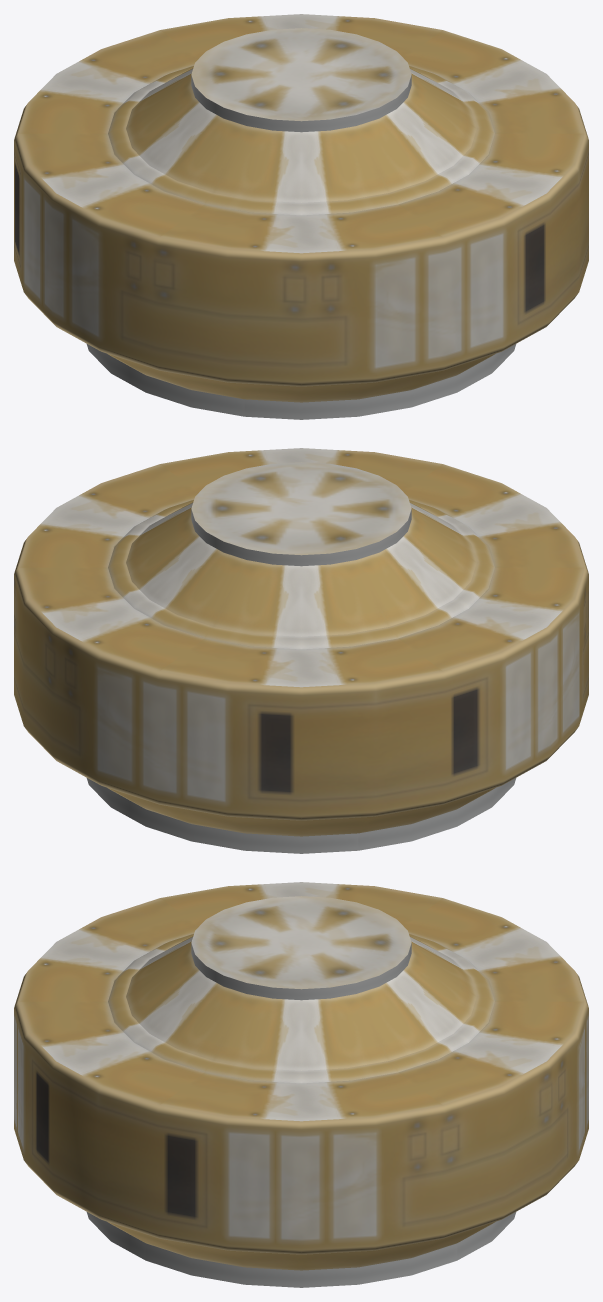
Rendered from Diamant_Diapason.dae.
The picture shows the model from 3 angles, top to bottom: view 1: azimuth 30°, elevation 25°; view 2: azimuth 150°, elevation 25°; view 3: azimuth 270°, elevation 25°; orthographic projection.
Parts seen in each view (by area): view 1: Diapason; view 2: Diapason; view 3: Diapason.
Part boxes in pixels (x1,y1,x2,y2): Diapason: (14,14,588,419); Diapason: (14,448,588,853); Diapason: (14,882,588,1287).
Bounding box in the file's own units: 0.816 × 0.3949 × 0.816.
